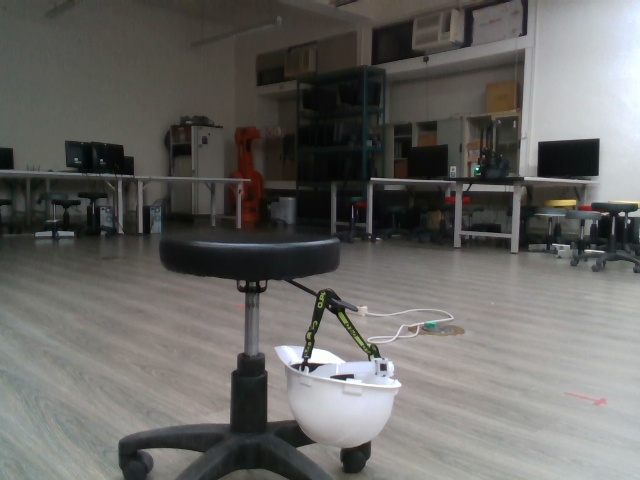helmet: (276, 341, 403, 445)
